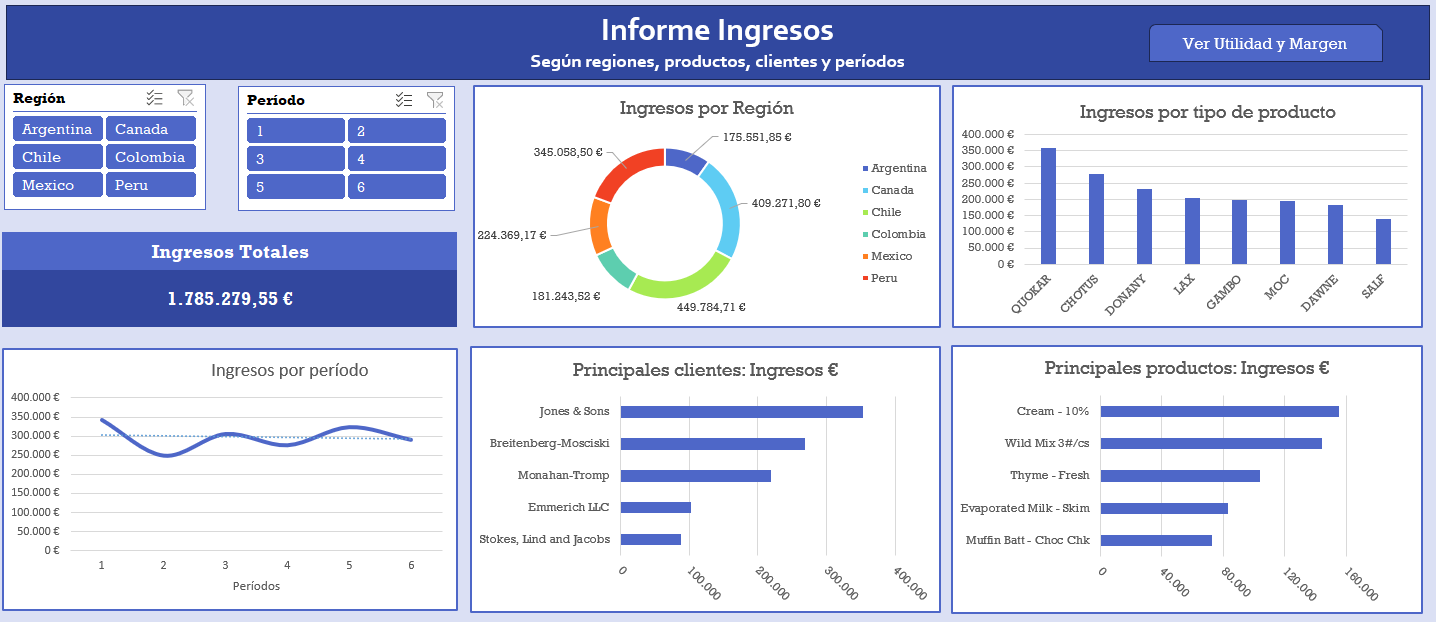

The dashboard page shown, as its layout file describes it:
{"tool":"powerbi","page":{"name":"Informe Ingresos","canvas":[1280,720],"ordinal":4},"visuals":[{"type":"card","fields":{"Values":["Sum(TablaFinanzas.Ingresos)"]},"box":[10.1,262.1,412.9,120.4],"z":0},{"type":"lineChart","title":"Ingresos por Período","fields":{"Category":["TablaFinanzas.Período"],"Y":["Sum(TablaFinanzas.Ingresos)"]},"box":[10.1,398.2,416.2,295.9],"z":1000},{"type":"pieChart","title":"Ingresos por Region","fields":{"Category":["LookupsCliente.Region"],"Y":["Sum(TablaFinanzas.Ingresos)"]},"box":[436.5,77.6,401.6,304.9],"z":2000},{"type":"barChart","title":"Ingresos por Tipo de Producto","fields":{"Category":["LookupsProducto.Tipo de Producto"],"Y":["Sum(TablaFinanzas.Ingresos)"]},"box":[436.5,398.2,401.6,295.9],"z":3000},{"type":"barChart","title":"Top 5 - Ingresos por Cliente","fields":{"Category":["TablaFinanzas.Cliente"],"Y":["Sum(TablaFinanzas.Ingresos)"]},"box":[851.6,77.6,412.9,304.9],"z":4000},{"type":"barChart","title":"Top 5 - Ingresos por Producto","fields":{"Category":["TablaFinanzas.Producto"],"Y":["Sum(TablaFinanzas.Ingresos)"]},"box":[851.6,398.2,412.9,295.9],"z":5000},{"type":"slicer","fields":{"Values":["LookupsCliente.Region"]},"box":[10.1,77.6,204.8,174.4],"z":6000},{"type":"slicer","fields":{"Values":["LookupsProducto.Tipo de Producto"]},"box":[228.4,77.6,194.6,87.8],"z":7000},{"type":"shape","box":[0,0,1280.2,63],"z":8000},{"type":"textbox","box":[445.5,0,520.9,63],"z":9500},{"type":"actionButton","box":[1089,10.1,163.1,42.8],"z":9501},{"type":"actionButton","box":[39.4,10.1,163.1,42.8],"z":9502}]}

Visuals, with their boxes on the page's 1280x720 design canvas (x1, y1, x2, y2). These are canvas units, not pixel positions in the 1436x622 screenshot, which may show the page scaled, cropped or inside an application window:
card - Sum(TablaFinanzas.Ingresos): [10, 262, 423, 382]
"Ingresos por Período" lineChart: [10, 398, 426, 694]
"Ingresos por Region" pieChart: [436, 78, 838, 382]
"Ingresos por Tipo de Producto" barChart: [436, 398, 838, 694]
"Top 5 - Ingresos por Cliente" barChart: [852, 78, 1264, 382]
"Top 5 - Ingresos por Producto" barChart: [852, 398, 1264, 694]
slicer - LookupsCliente.Region: [10, 78, 215, 252]
slicer - LookupsProducto.Tipo de Producto: [228, 78, 423, 165]
shape: [0, 0, 1280, 63]
textbox: [446, 0, 966, 63]
actionButton: [1089, 10, 1252, 53]
actionButton: [39, 10, 202, 53]
